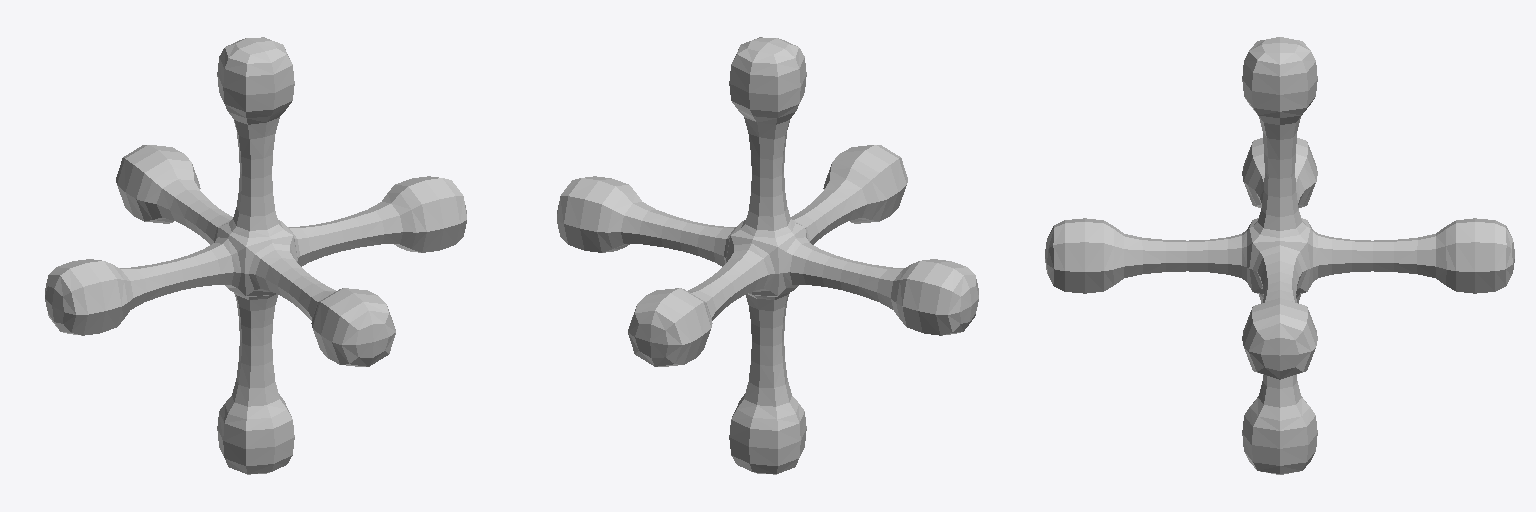
File: jack.obj
3 renders of one model, left to right at view 1: azimuth 30°, elevation 25°; view 2: azimuth 150°, elevation 25°; view 3: azimuth 270°, elevation 25°, orthographic.
Visible parts, largest first — view 1: jack; view 2: jack; view 3: jack.
Part boxes in pixels (x1,y1,x2,y2): jack: (45,37,466,474); jack: (557,37,978,474); jack: (1045,37,1514,474).
Bounding box in the file's own units: 0.05 × 0.05 × 0.05.